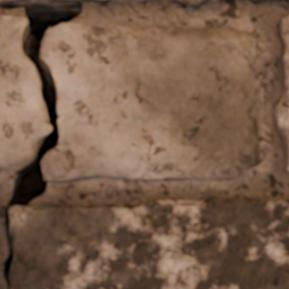brick: (10, 197, 288, 288), (275, 17, 288, 171), (0, 0, 79, 3), (172, 0, 207, 4), (107, 0, 138, 2)
broken_brick: (42, 23, 261, 184), (0, 15, 51, 172)
crack: (0, 2, 83, 286)
